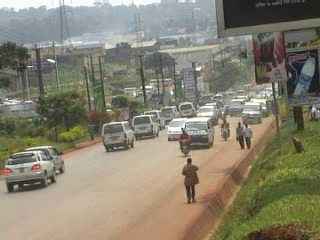Car: (4, 150, 59, 192), (20, 144, 66, 174), (165, 116, 191, 143), (195, 105, 219, 125)
Motorcycle: (178, 127, 193, 155), (218, 116, 231, 142), (219, 104, 229, 122)
